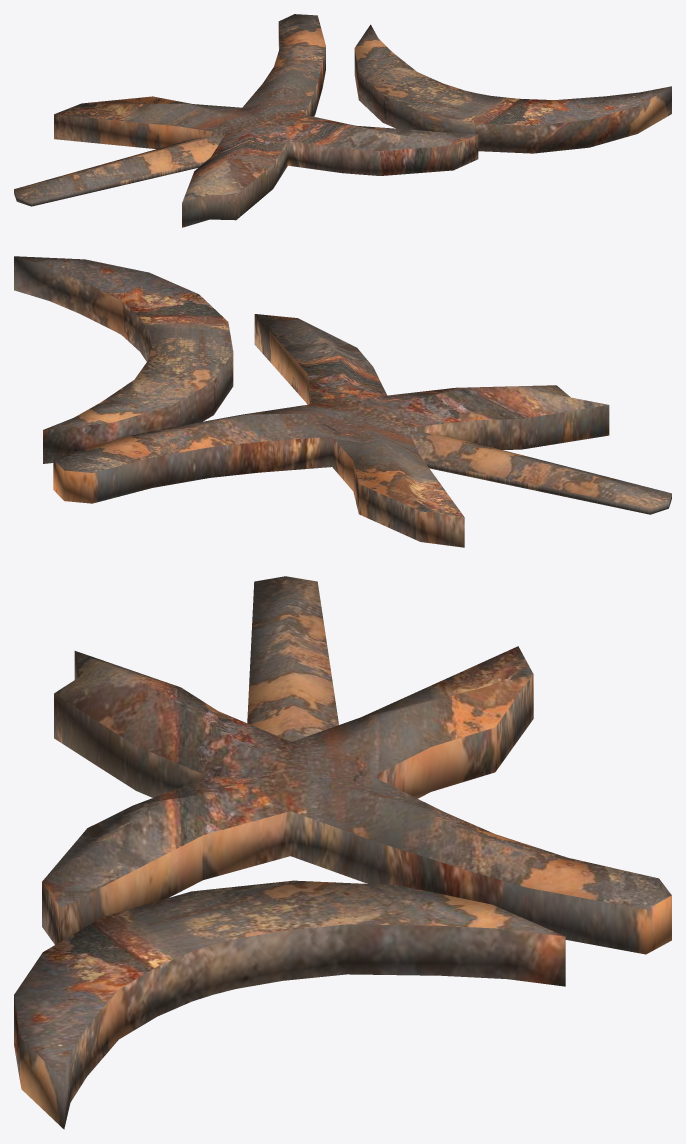
The model's file is MarkOfHidden.FBX.
3 renders of one model, top to bottom at view 1: azimuth 30°, elevation 25°; view 2: azimuth 150°, elevation 25°; view 3: azimuth 270°, elevation 25°, orthographic. The views are drawn at different scales.
Parts seen in each view (by area): view 1: Object284; view 2: Object284; view 3: Object284.
Boxes of the visible parts, bbox=[...] form: Object284: bbox=[14, 14, 671, 227]; Object284: bbox=[14, 256, 671, 547]; Object284: bbox=[14, 576, 671, 1129].
Size of the model in its own units: 2.06 by 0.1716 by 1.1.
